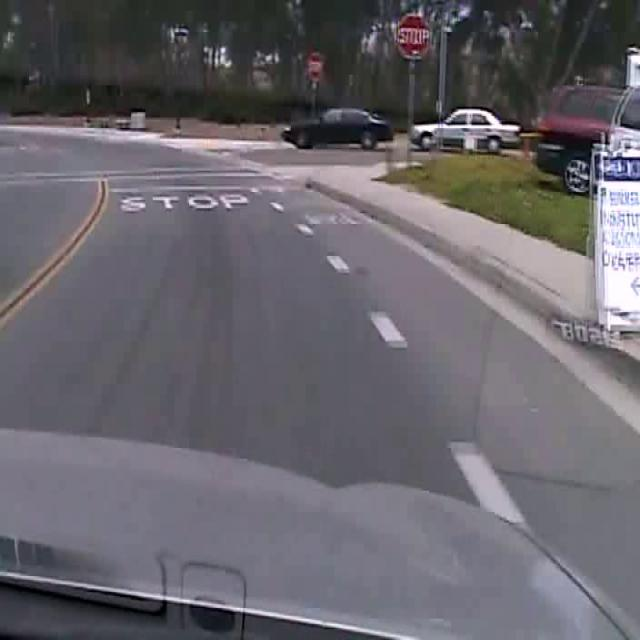stop_sign: (396, 13, 430, 60), (305, 52, 323, 83)
